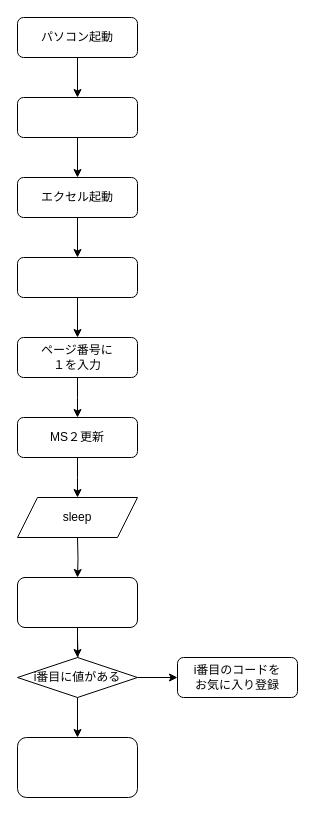
Some shapes in this 315 by 815 pixel diagram are drawn without their labels. Here are the shapes that lost their labels. From the top down, the centre of each, then its label:
pixel 77 117: MS２起動・ログイン
pixel 77 277: 業種コードに 50を入力
pixel 77 602: for i=1 to 50
pixel 77 767: 業種コードに
